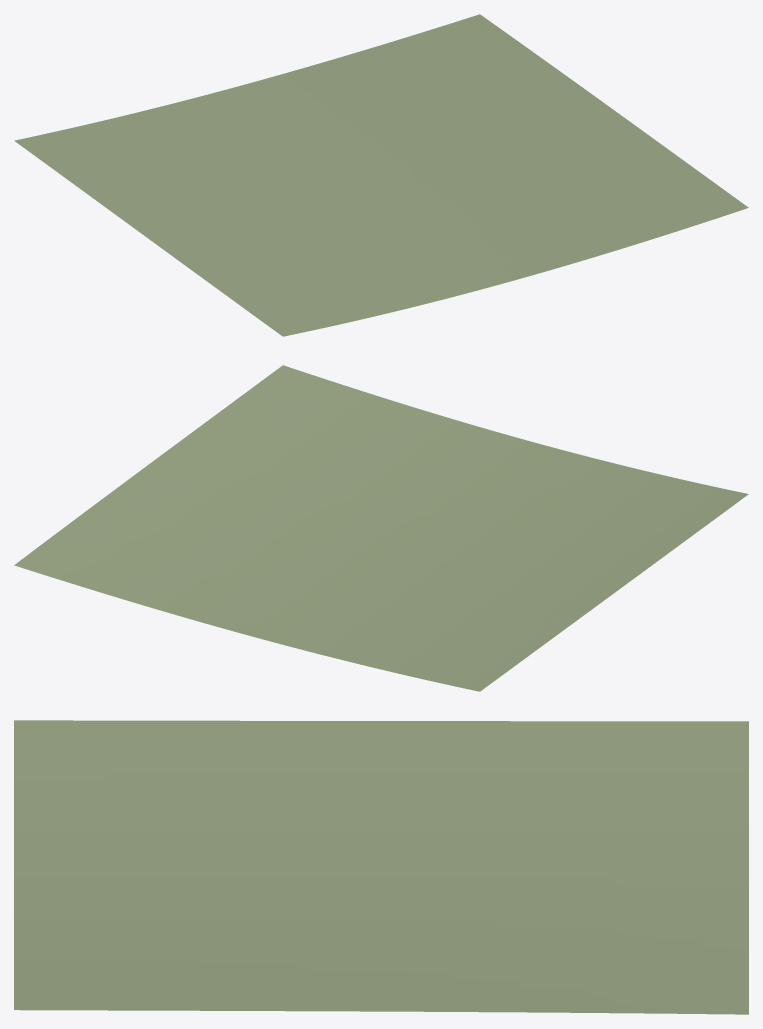
Rendered from valley-13-10.glb.
3 renders of one model, top to bottom at view 1: azimuth 30°, elevation 25°; view 2: azimuth 150°, elevation 25°; view 3: azimuth 270°, elevation 25°, orthographic. The views are drawn at different scales.
Visible parts, largest first — view 1: valley-13-10; view 2: valley-13-10; view 3: valley-13-10.
Part boxes in pixels (x1,y1,x2,y2): valley-13-10: (14,14,748,336); valley-13-10: (14,365,748,691); valley-13-10: (14,720,748,1014).
Size of the model in its own units: 256 by 9.43 by 256.
